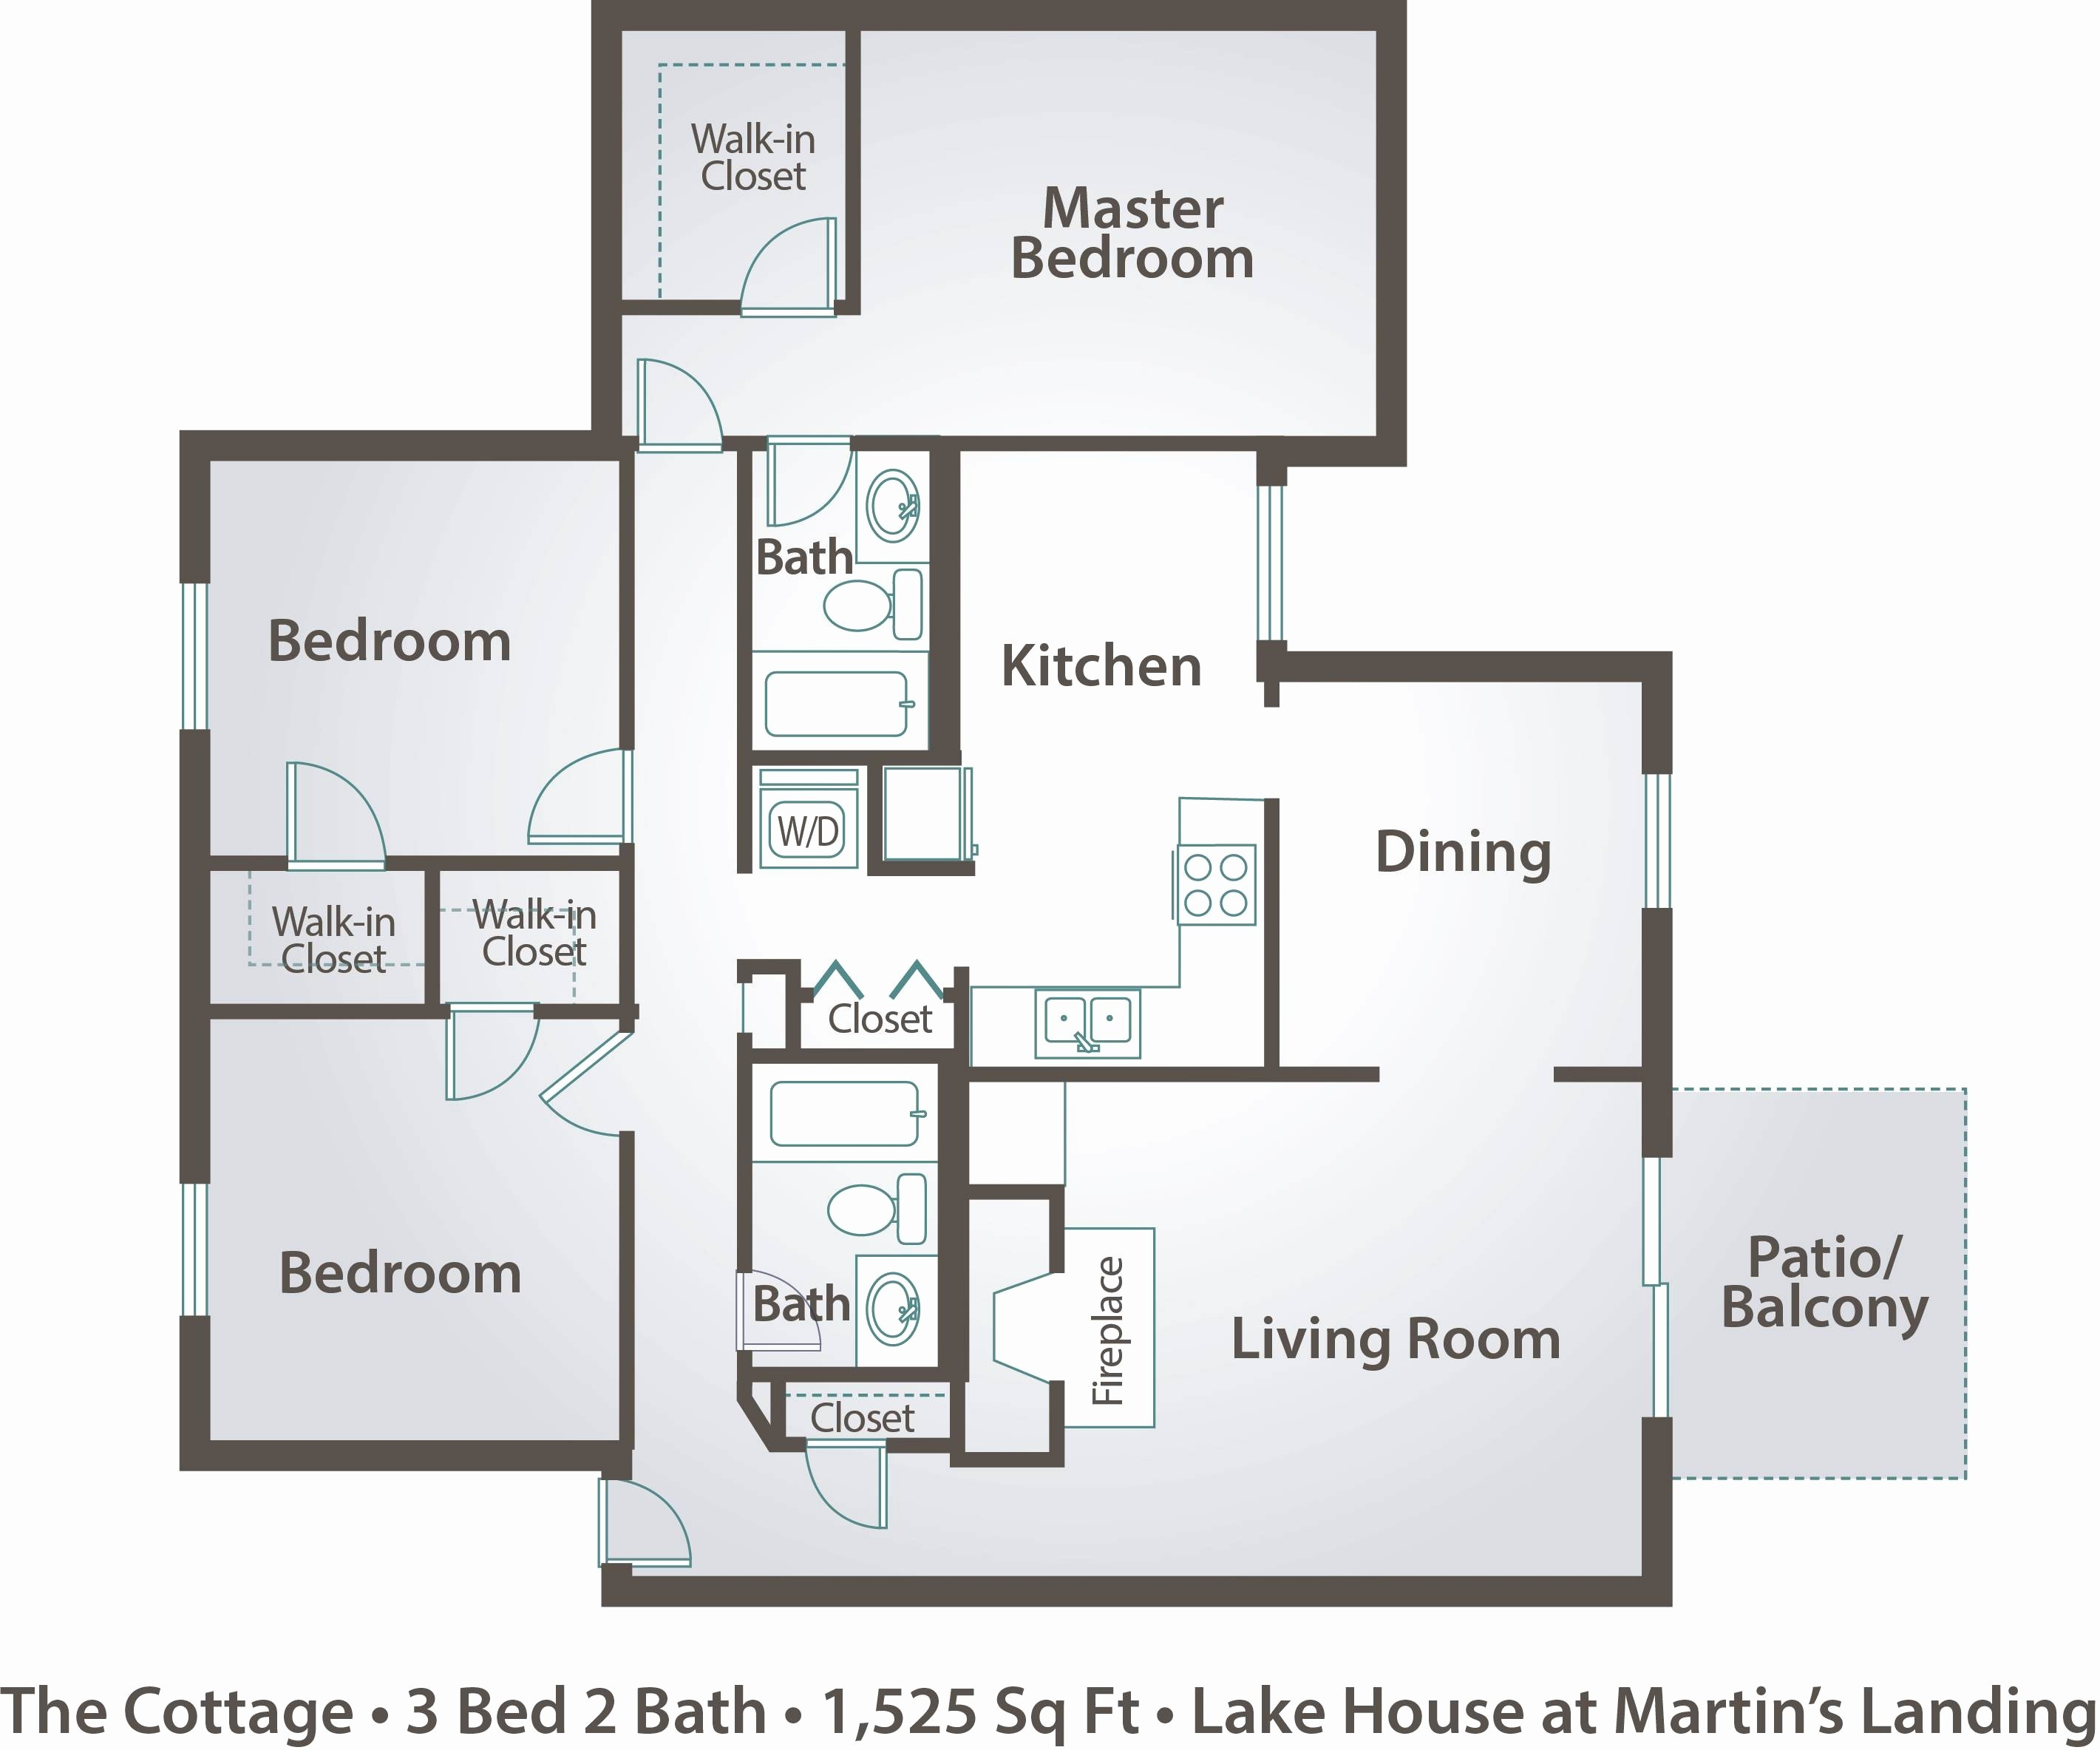room: (945, 1061, 1676, 1602), (593, 0, 1408, 466), (176, 429, 635, 1029), (937, 433, 1285, 1082), (176, 1005, 633, 1478), (1263, 653, 1680, 1085), (731, 1042, 972, 1389), (741, 441, 958, 761)
